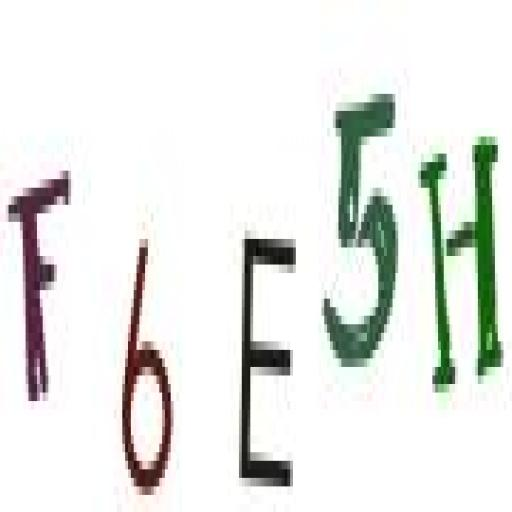5: (323, 73, 407, 384)
6: (114, 217, 183, 512)
E: (238, 213, 304, 511)
F: (4, 158, 74, 418)
H: (415, 137, 508, 413)
